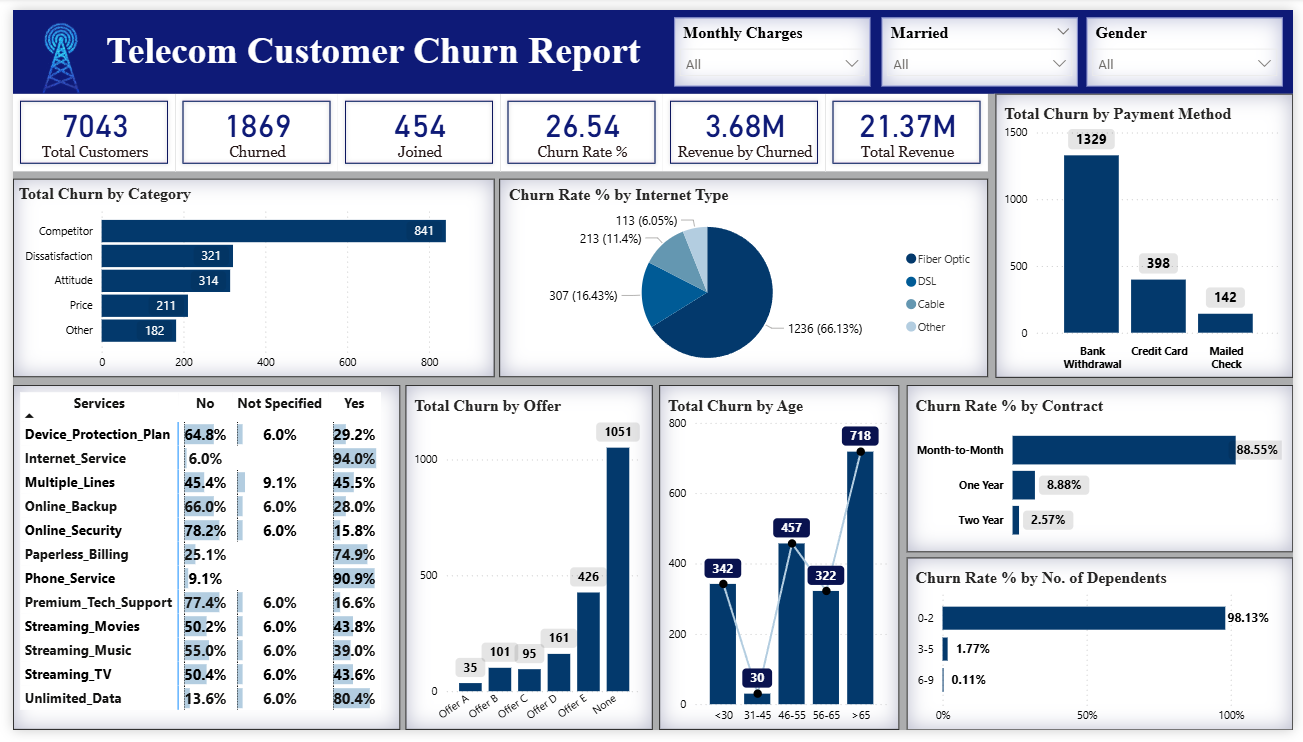

This screenshot's page, from the dashboard's own definition file:
{"tool":"powerbi","page":{"name":"Dashborad","canvas":[1280,720],"ordinal":0},"visuals":[{"type":"shape","box":[0,0,1280,83.8],"z":0,"group":"g1"},{"type":"cardVisual","fields":{"Data":["customer_churn_analysis.Total Customers"]},"box":[0,83.8,162.5,77.5],"z":0},{"type":"textbox","box":[49,14,623,55],"z":1000,"group":"g1"},{"type":"cardVisual","fields":{"Data":["customer_churn_analysis.Joined"]},"box":[325,83.8,162.5,77.5],"z":1000},{"type":"image","box":[0,0,178,94],"z":2000,"group":"g1"},{"type":"cardVisual","fields":{"Data":["customer_churn_analysis.Measure"]},"box":[487.5,83.8,162.5,77.5],"z":2000},{"type":"cardVisual","fields":{"Data":["customer_churn_analysis.Churned"]},"box":[162.5,83.8,162.5,77.5],"z":3000},{"type":"barChart","title":"Total Churn by Category","fields":{"Category":["customer_churn_analysis.Churn_Category"],"Y":["Sum(customer_churn_analysis.Churned_Customers)"]},"box":[0,168.8,481.2,198.8],"z":4000},{"type":"columnChart","title":"Total Churn by Offer","fields":{"Category":["customer_churn_analysis.Offer"],"Y":["Sum(customer_churn_analysis.Churned_Customers)"]},"box":[392.5,375,247.5,345],"z":5000},{"type":"cardVisual","fields":{"Data":["customer_churn_analysis.Revenue by Churned"]},"box":[650,83.8,162.5,77.5],"z":6000},{"type":"cardVisual","fields":{"Data":["customer_churn_analysis.Total Revenue"]},"box":[812.5,83.8,162.5,77.5],"z":7000},{"type":"barChart","title":"Churn Rate % by Contract","fields":{"Category":["customer_churn_analysis.Contract"],"Y":["Sum(customer_churn_analysis.Churned_Customers)"]},"box":[893.8,375,386.2,167.5],"z":8000},{"type":"columnChart","title":"Total Churn by Payment Method","fields":{"Category":["customer_churn_analysis.Payment_Method"],"Y":["Sum(customer_churn_analysis.Churned_Customers)"]},"box":[982.5,83.8,297.5,283.8],"z":9000},{"type":"barChart","title":"Churn Rate % by No. of Dependents","fields":{"Category":["customer_churn_analysis.Dependents Group"],"Y":["Divide(Sum(customer_churn_analysis.Churned_Customers), ScopedEval(Sum(customer_churn_analysis.Churned_Customers), []))"]},"box":[893.8,547.5,386.2,172.5],"z":10000},{"type":"lineStackedColumnComboChart","title":"Total Churn by Age","fields":{"Category":["customer_churn_analysis.Age_Group"],"Y":["Sum(customer_churn_analysis.Churned_Customers)"],"Y2":["Sum(customer_churn_analysis.Churned_Customers)"]},"box":[646.2,375,240,345],"z":11000},{"type":"pivotTable","title":"Churn Rate % by Services","fields":{"Values":["Sum(customer_churn_analysis (2).Churned_Customers)"],"Rows":["Services_Columns.Services"],"Columns":["Services_Columns.Status"]},"box":[0,375,387.5,345],"z":12000},{"type":"slicer","fields":{"Values":["Services_Columns.Monthly_Charge (bins)","customer_churn_analysis.Churned_Customers"]},"box":[652.5,17.5,196.2,58.8],"z":13000},{"type":"group","id":"g1","title":"Group 1","box":[0,0,1280,94],"z":14000},{"type":"slicer","fields":{"Values":["customer_churn_analysis.Gender","customer_churn_analysis.Churned_Customers"]},"box":[1073.8,7.5,196.2,69],"z":15000},{"type":"slicer","fields":{"Values":["customer_churn_analysis.Married","customer_churn_analysis.Churned_Customers"]},"box":[868.8,7.5,196.2,68.8],"z":16000},{"type":"slicer","fields":{"Values":["customer_churn_analysis.Monthly_Charge (bins)"]},"box":[661.2,7.5,196.2,68.8],"z":17000},{"type":"pieChart","title":"Churn Rate % by Internet Type","fields":{"Category":["customer_churn_analysis.Internet_Type"],"Y":["Sum(customer_churn_analysis.Churned_Customers)"]},"box":[486.2,168.8,488.8,198.8],"z":18000}]}

Visuals, with their boxes in screenshot pixels (x1, y1, x2, y2), scaled from the page's 1280x720 canvas onto the 1303x742 screenshot:
shape: <region>0, 0, 1302, 86</region>
cardVisual - customer_churn_analysis.Total Customers: <region>0, 86, 165, 166</region>
textbox: <region>50, 14, 684, 71</region>
cardVisual - customer_churn_analysis.Joined: <region>331, 86, 496, 166</region>
image: <region>0, 0, 181, 97</region>
cardVisual - customer_churn_analysis.Measure: <region>496, 86, 662, 166</region>
cardVisual - customer_churn_analysis.Churned: <region>165, 86, 331, 166</region>
"Total Churn by Category" barChart: <region>0, 174, 490, 379</region>
"Total Churn by Offer" columnChart: <region>400, 386, 652, 741</region>
cardVisual - customer_churn_analysis.Revenue by Churned: <region>662, 86, 827, 166</region>
cardVisual - customer_churn_analysis.Total Revenue: <region>827, 86, 993, 166</region>
"Churn Rate % by Contract" barChart: <region>910, 386, 1302, 559</region>
"Total Churn by Payment Method" columnChart: <region>1000, 86, 1302, 379</region>
"Churn Rate % by No. of Dependents" barChart: <region>910, 564, 1302, 741</region>
"Total Churn by Age" lineStackedColumnComboChart: <region>658, 386, 902, 741</region>
"Churn Rate % by Services" pivotTable: <region>0, 386, 394, 741</region>
slicer - Services_Columns.Monthly_Charge (bins) x customer_churn_analysis.Churned_Customers: <region>664, 18, 864, 79</region>
"Group 1" group: <region>0, 0, 1302, 97</region>
slicer - customer_churn_analysis.Gender x customer_churn_analysis.Churned_Customers: <region>1093, 8, 1293, 79</region>
slicer - customer_churn_analysis.Married x customer_churn_analysis.Churned_Customers: <region>884, 8, 1084, 79</region>
slicer - customer_churn_analysis.Monthly_Charge (bins): <region>673, 8, 873, 79</region>
"Churn Rate % by Internet Type" pieChart: <region>495, 174, 993, 379</region>
